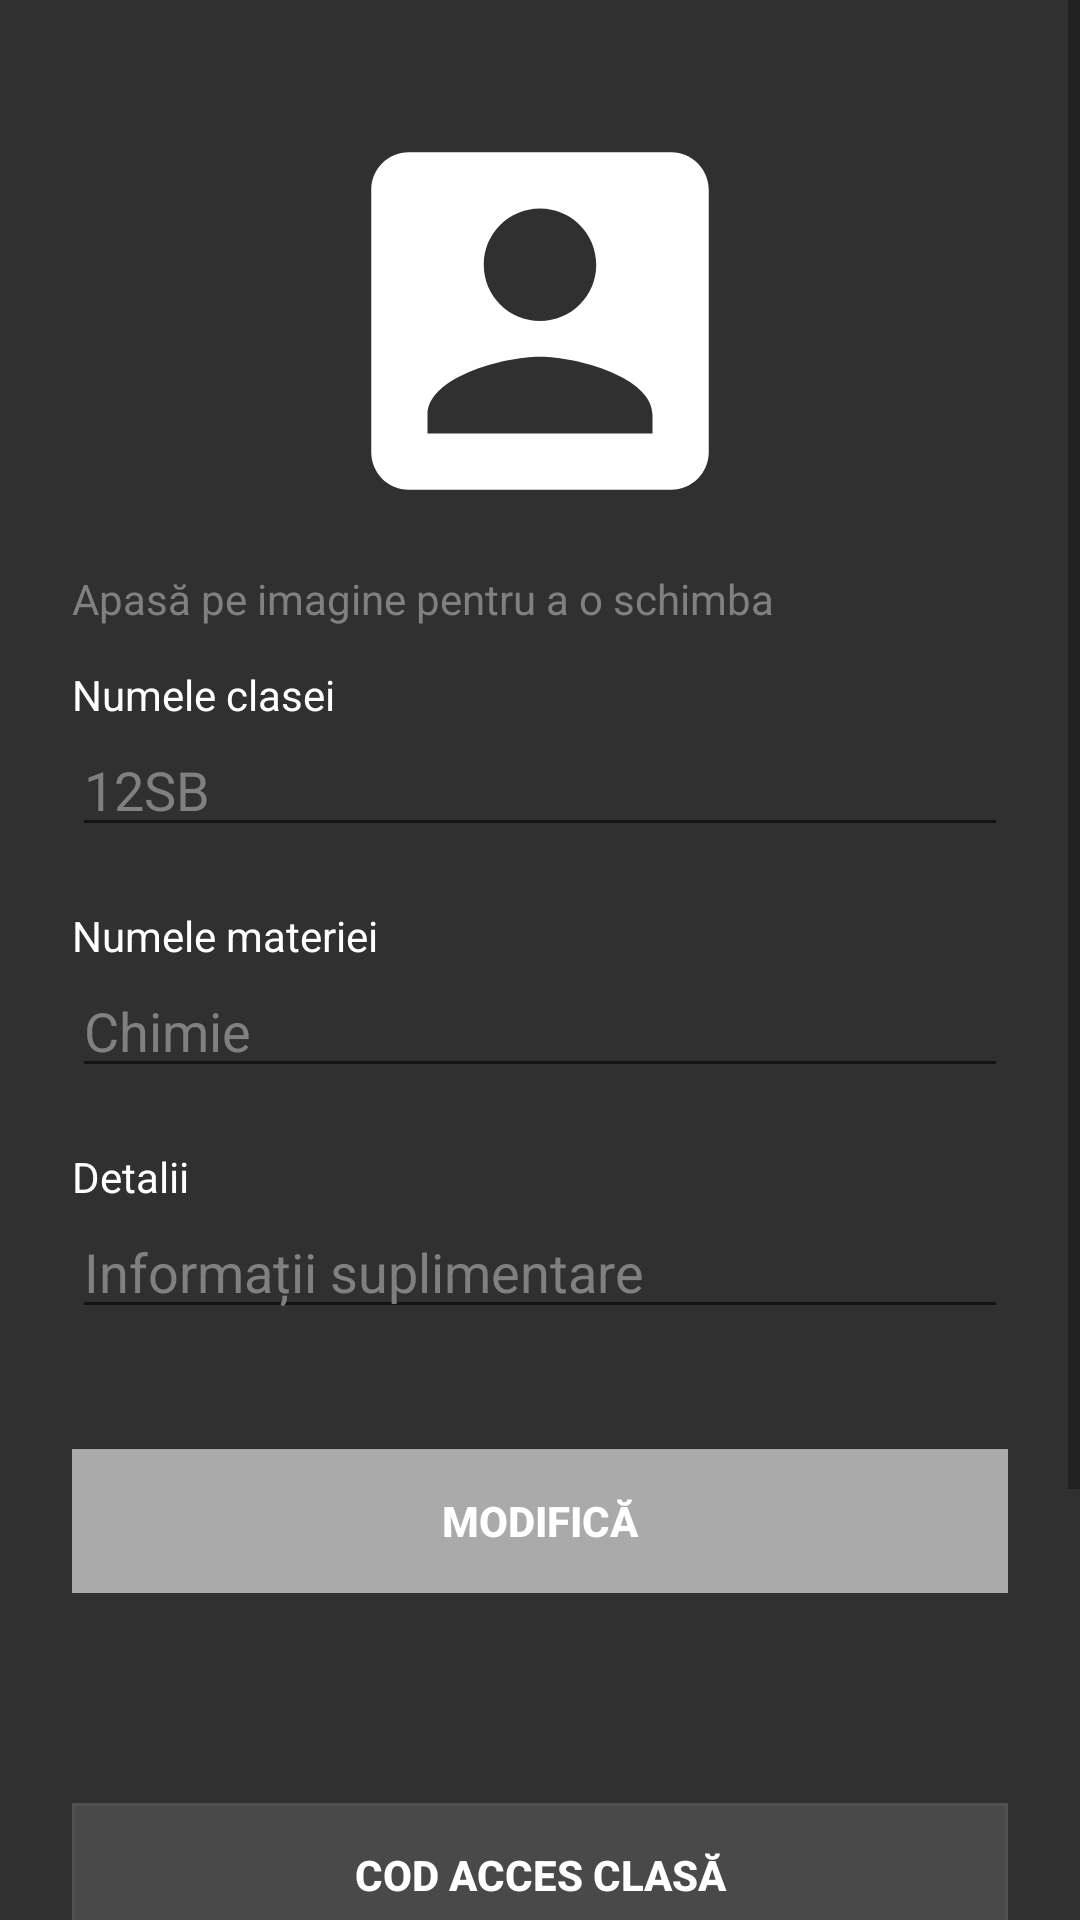

Icons on this 1080px×1920px Android screen, each with its box as (x1, y1, x2, y2):
account box: (371, 152, 709, 490)
